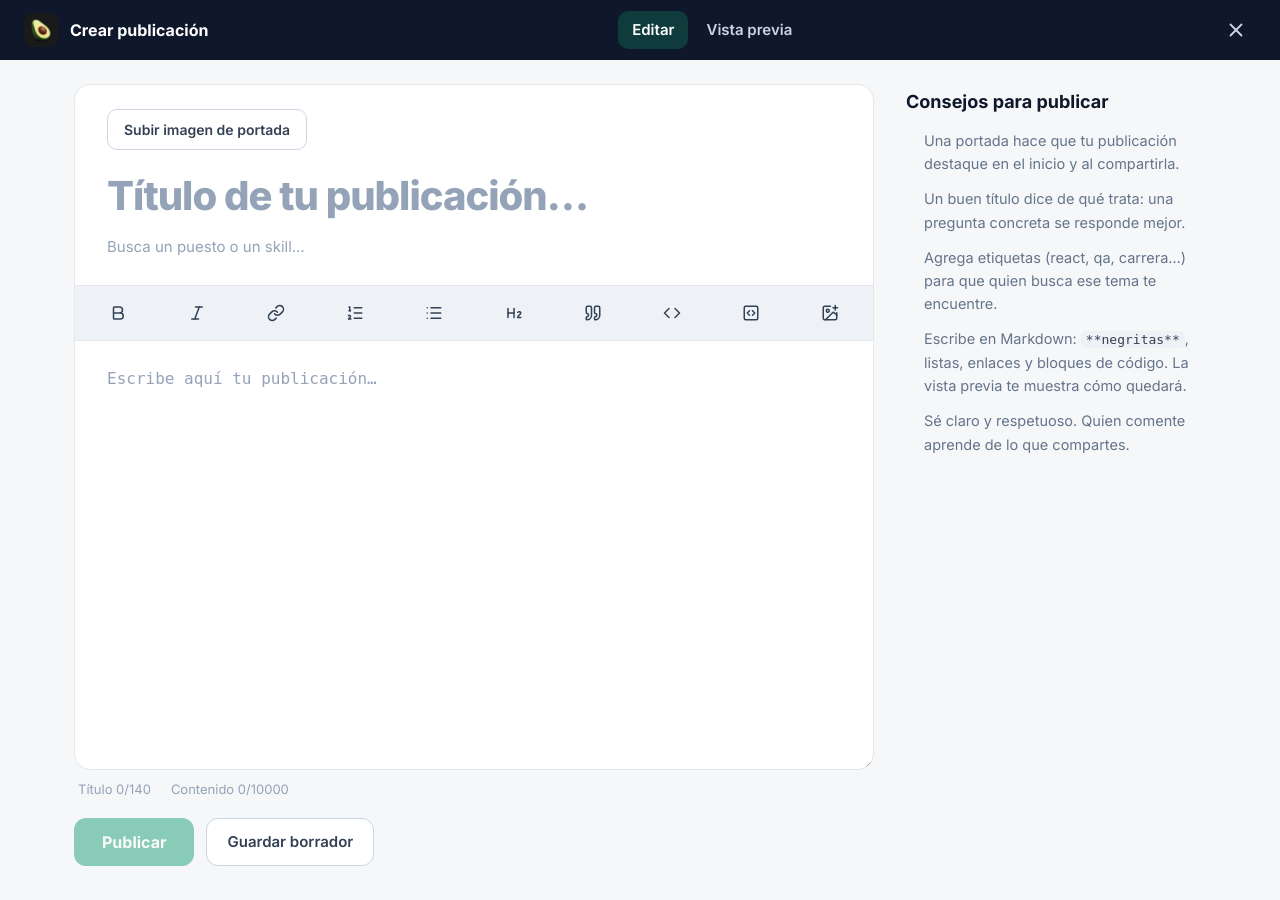
it: PublishForm › removes a chosen tag
In the dropdown named "Etiquetas": (474,247) [107,230,841,264], type "react"
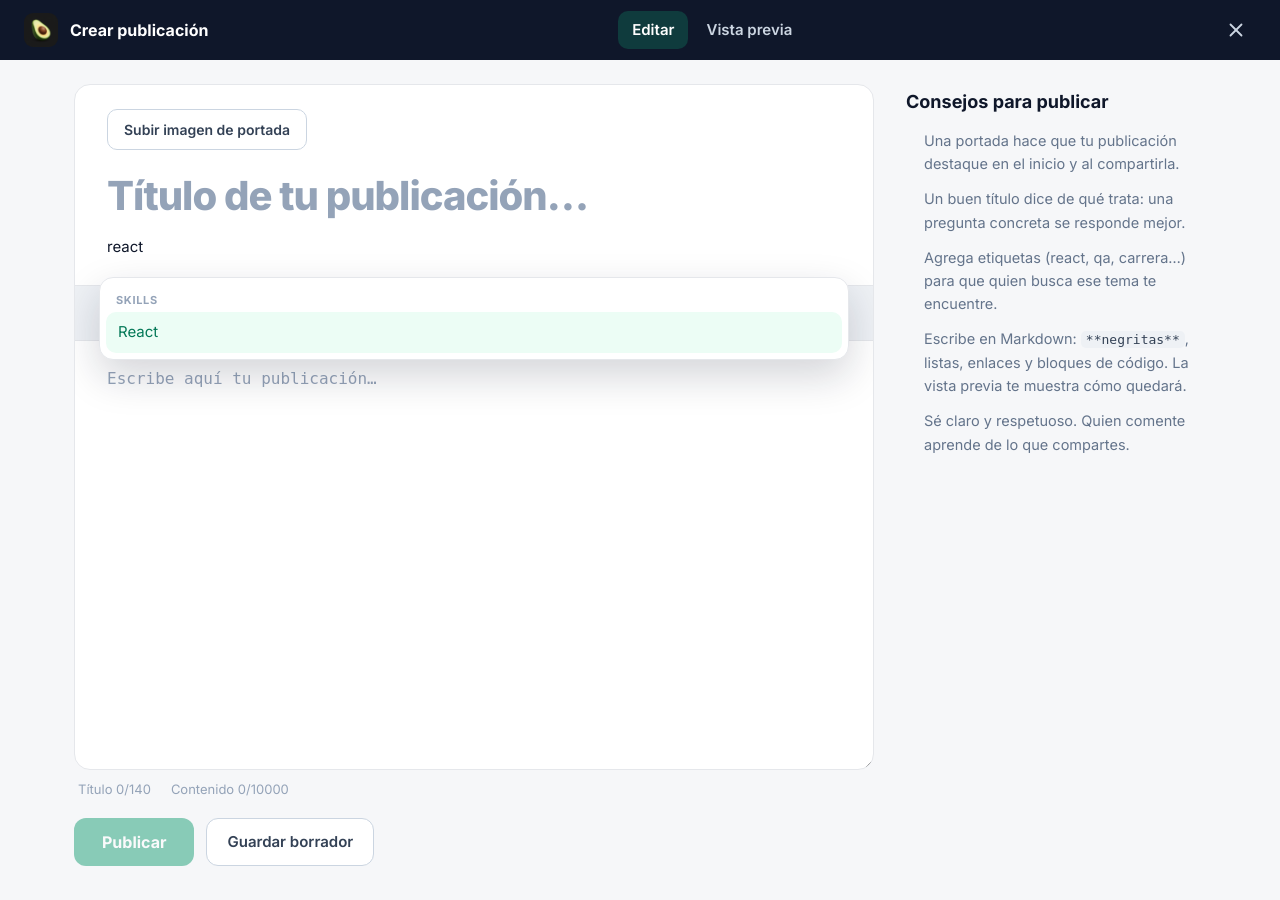
Click the option "React": (138,332) [106,312,842,352]
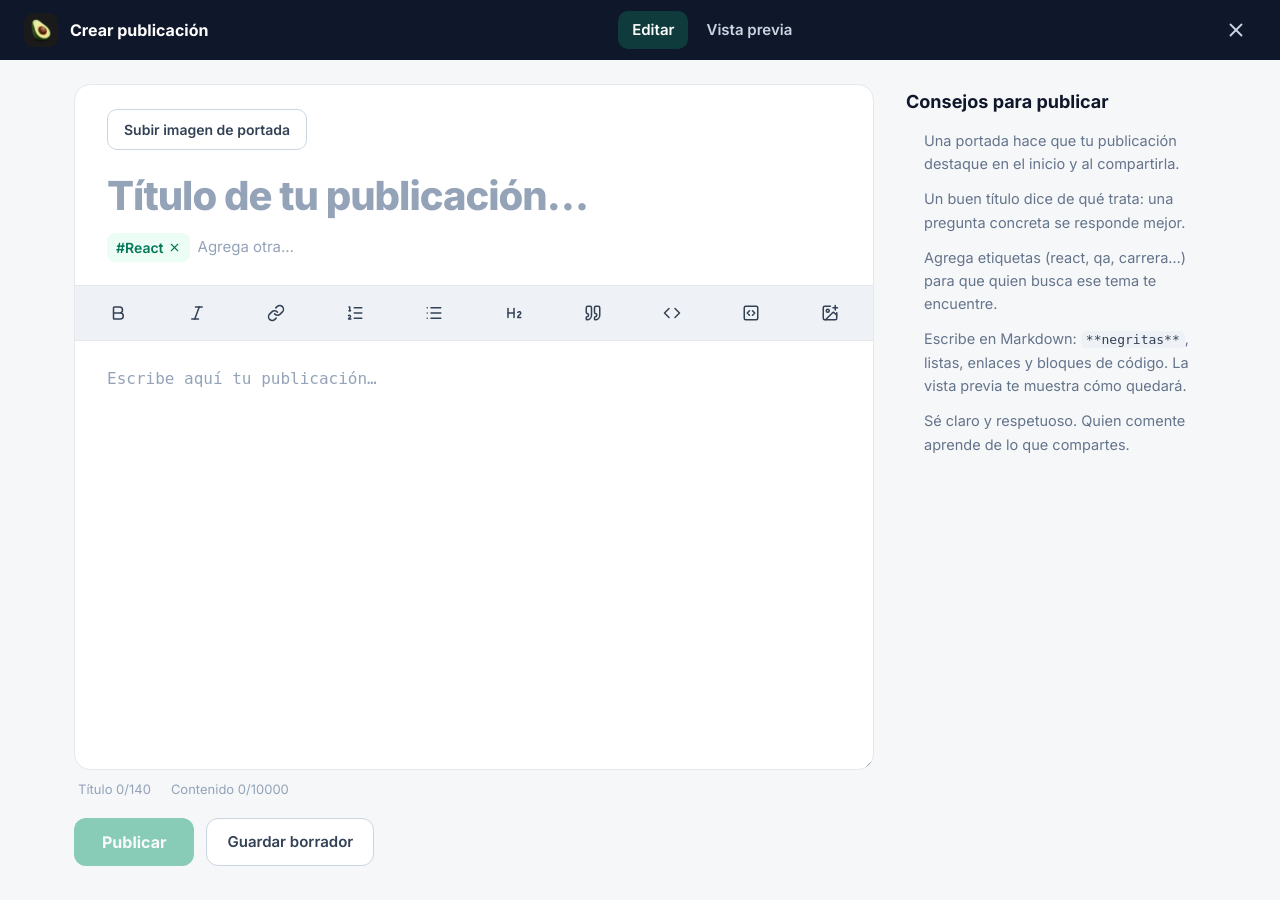
Click the button named "Quitar React": (174,247) [168,241,180,254]
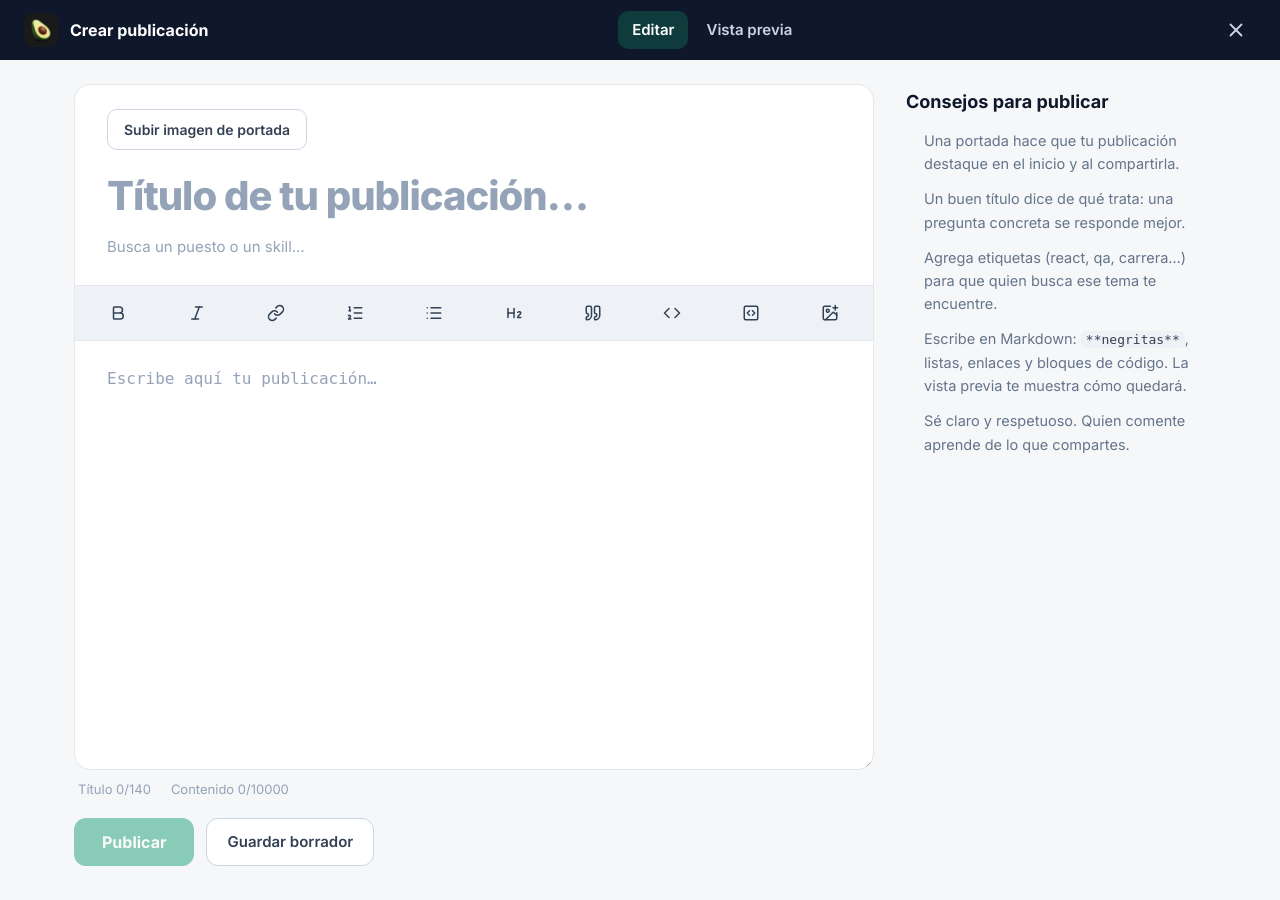
Now the text "#React" is gone
